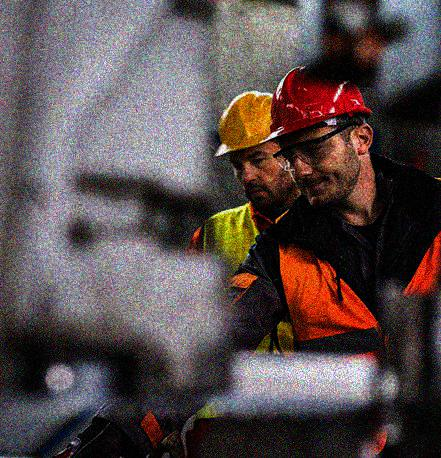helmet: (271, 63, 375, 206), (212, 89, 292, 206)
